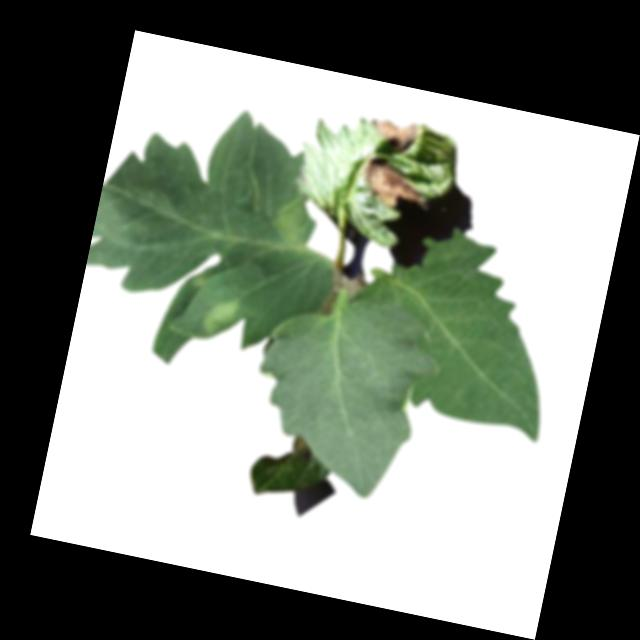Late_blight: (356, 154, 436, 218), (267, 191, 318, 258), (323, 269, 368, 324), (367, 113, 424, 155), (199, 290, 244, 343), (278, 433, 317, 466)
healthy: (343, 212, 577, 443), (238, 280, 449, 508)
